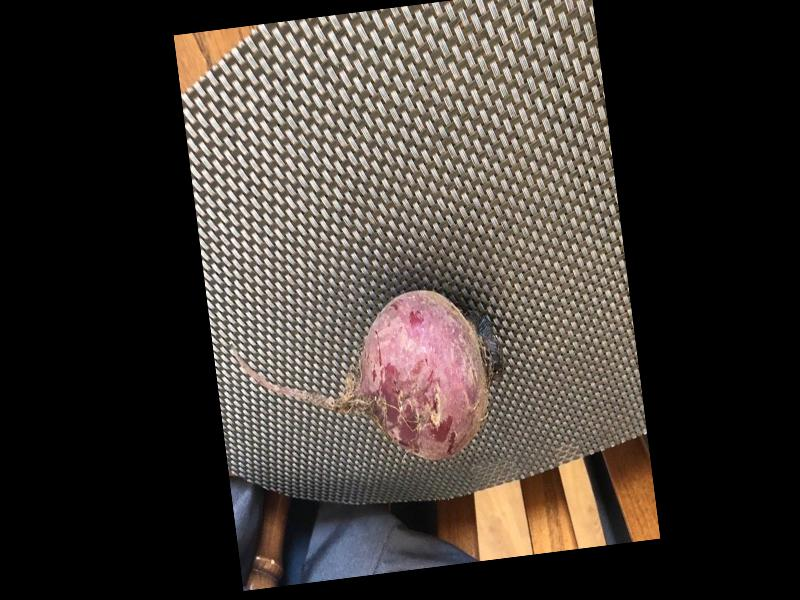Beet: (231, 281, 518, 485)
